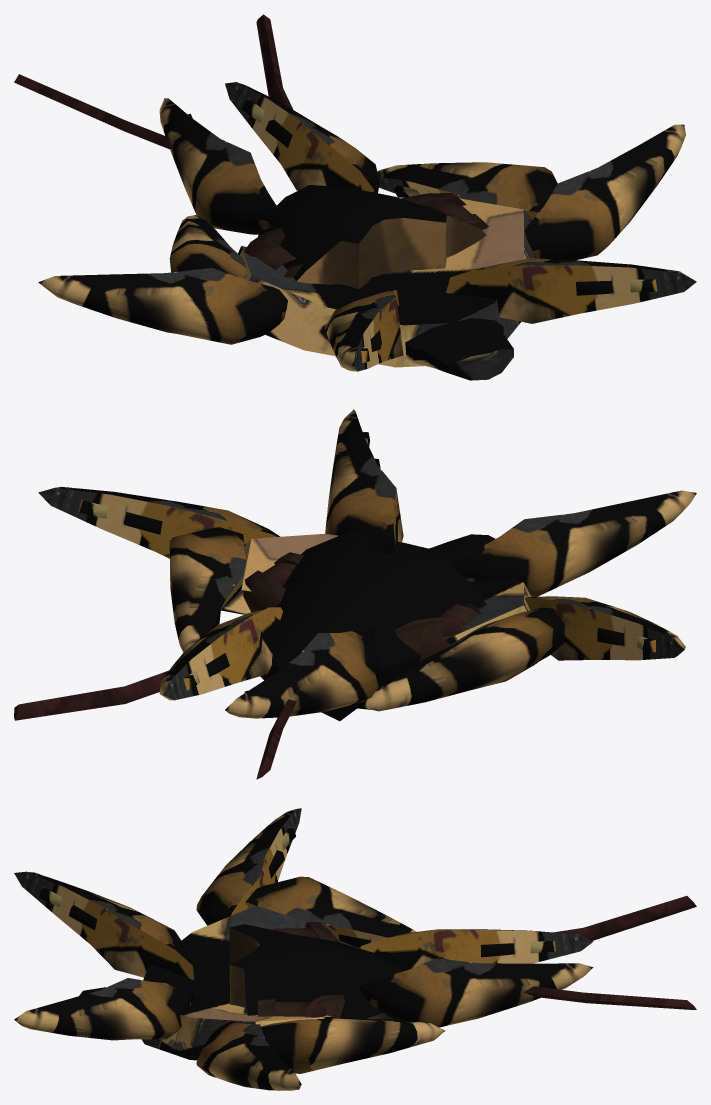
File: Worker10.fbx
The picture shows the model from 3 angles, top to bottom: view 1: azimuth 30°, elevation 25°; view 2: azimuth 150°, elevation 25°; view 3: azimuth 270°, elevation 25°; orthographic projection. The views are drawn at different scales.
Parts seen in each view (by area): view 1: Worker10; view 2: Worker10; view 3: Worker10.
Boxes of the visible parts, x1,y1,x2,y2 form: Worker10: (14, 14, 696, 380); Worker10: (14, 409, 696, 779); Worker10: (14, 808, 696, 1090).
Size of the model in its own units: 236 by 43.72 by 247.
Materials: 1 (1 with a texture image).
